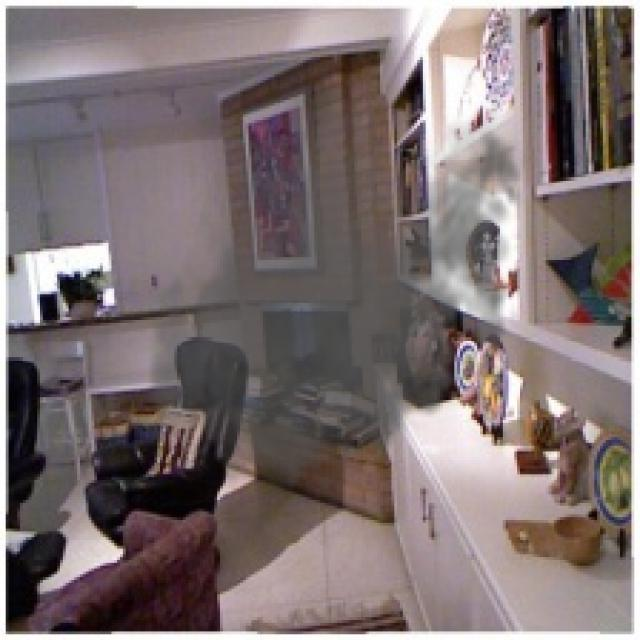smoke: (140, 86, 534, 511)
